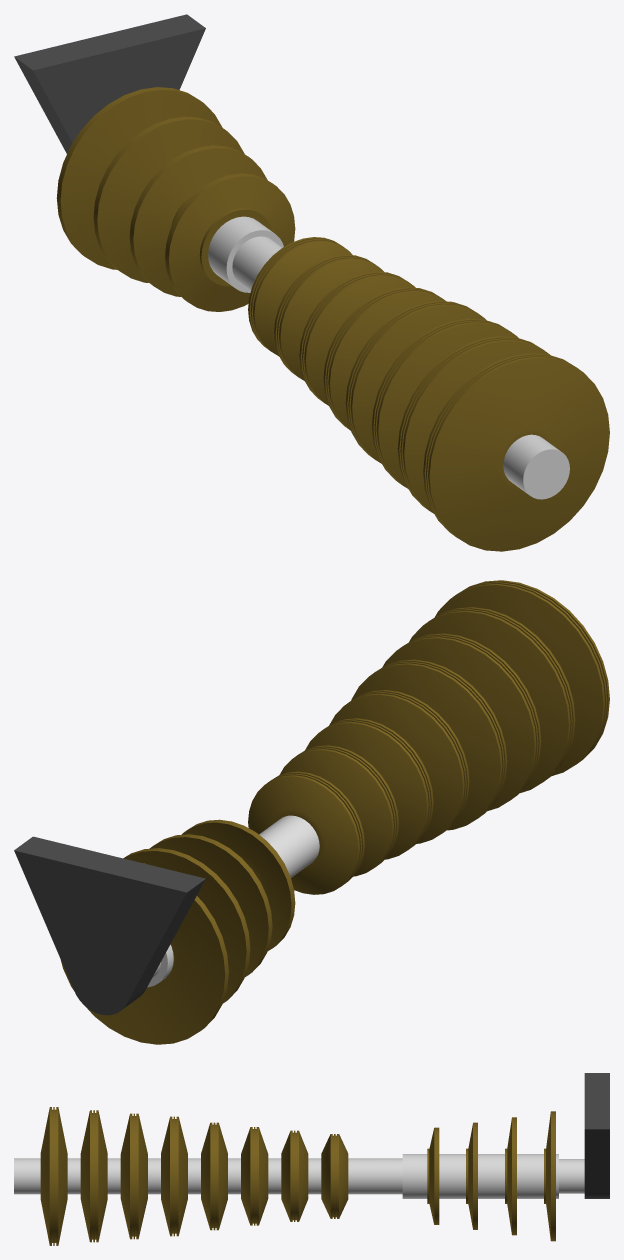
The model's file is N_reactor-turbine.fbx.
3 views of the same model, one above another, from view 1: azimuth 30°, elevation 25°; view 2: azimuth 150°, elevation 25°; view 3: azimuth 270°, elevation 25° (orthographic). The views are drawn at different scales.
Visible parts, largest first — view 1: Turbine; view 2: Turbine; view 3: Turbine.
Boxes of the visible parts, <box> form: Turbine: <box>14,14,609,551</box>; Turbine: <box>14,580,609,1044</box>; Turbine: <box>14,1073,609,1245</box>.
Bounding box in the file's own units: 308 × 338 × 1320.
